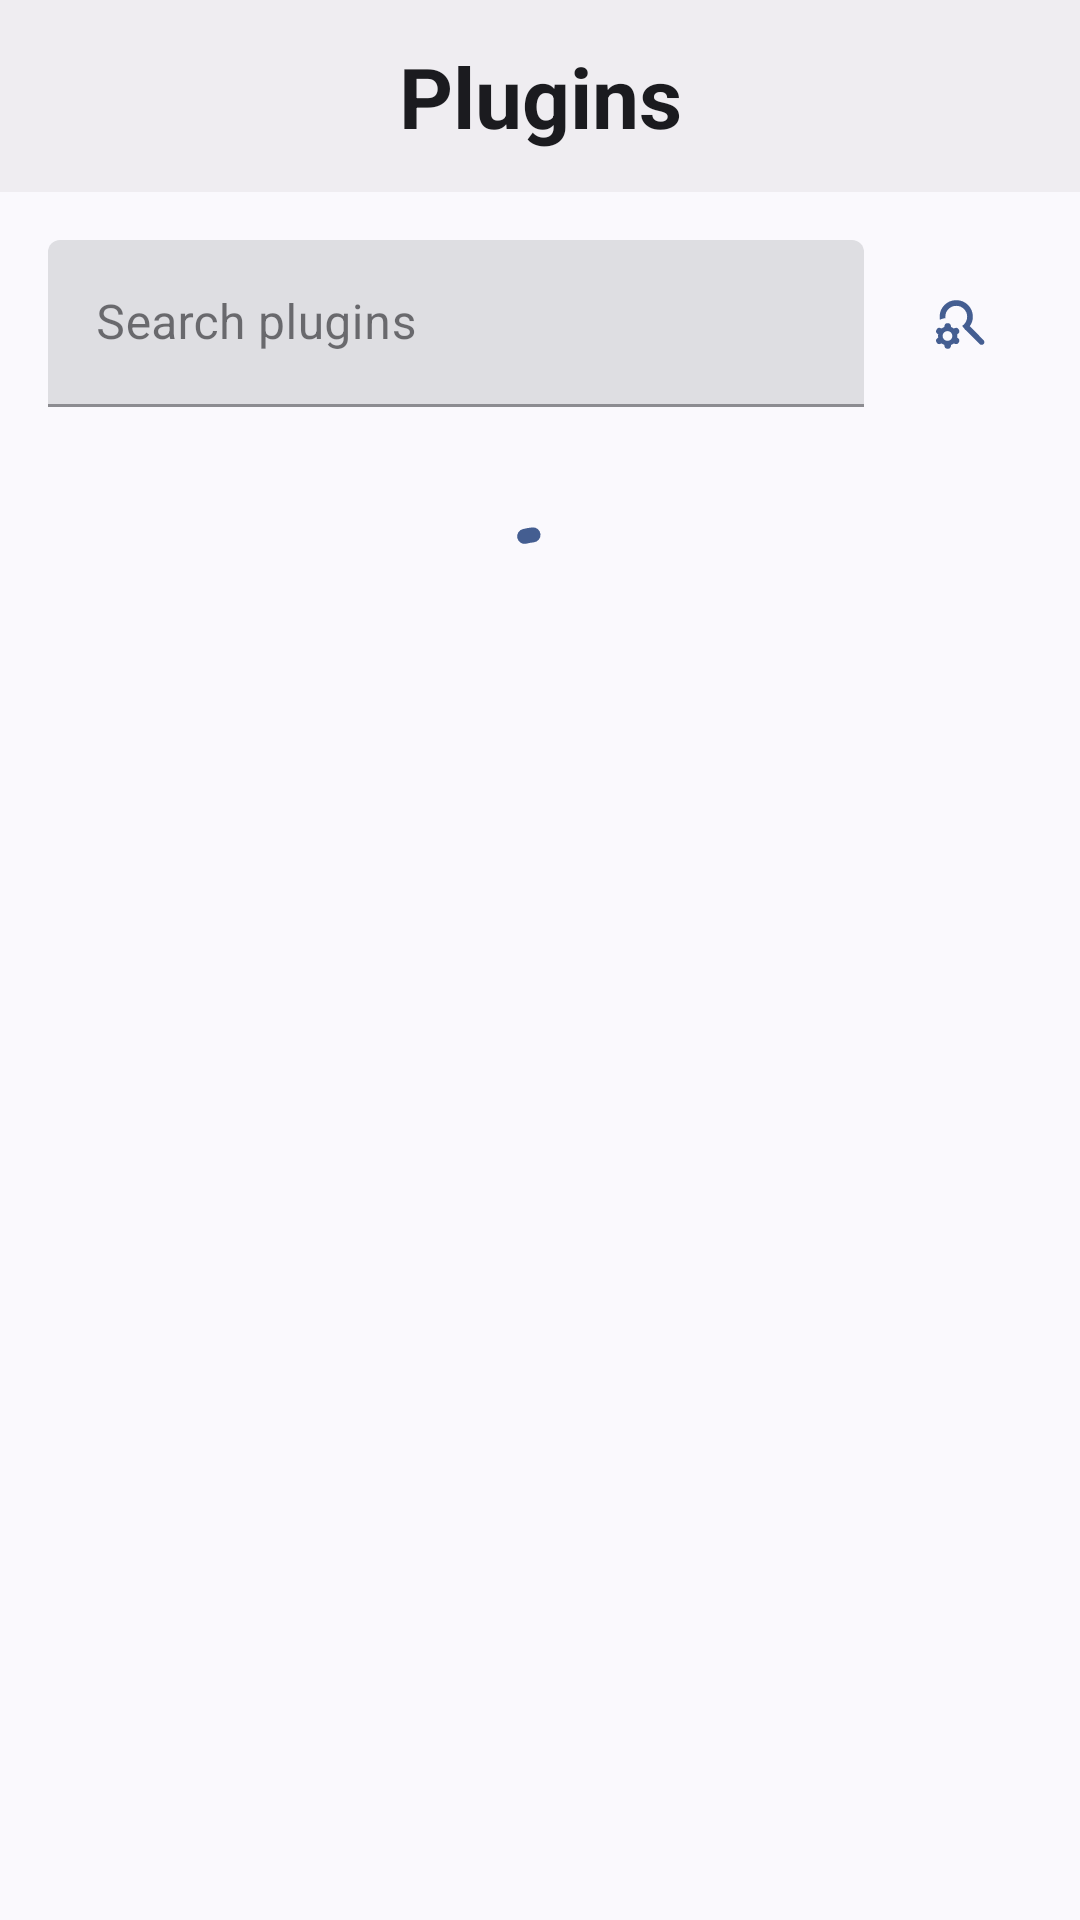

Locate icon controls on the screen. Image size 1080 × 1920, boxes as (x1, y1, x2, y2).
search gear: (936, 300, 985, 349)
